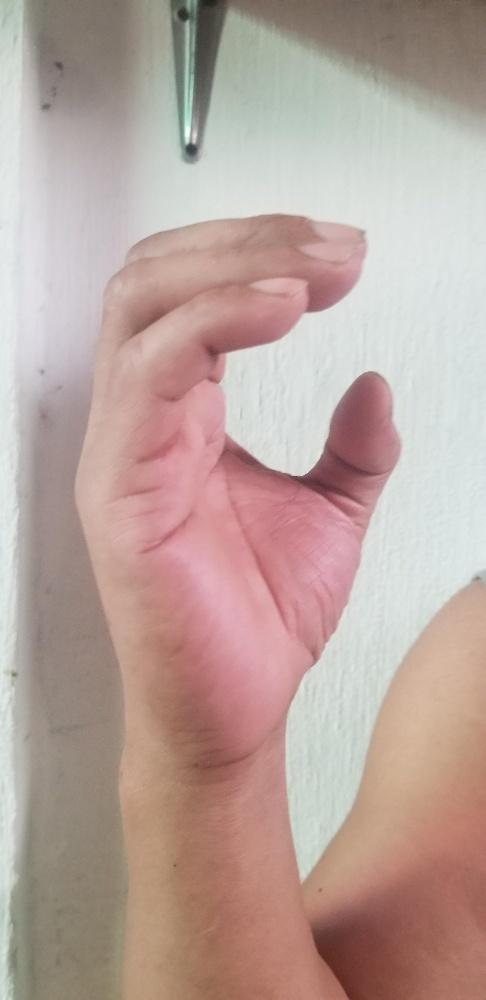c: (69, 211, 407, 736)
